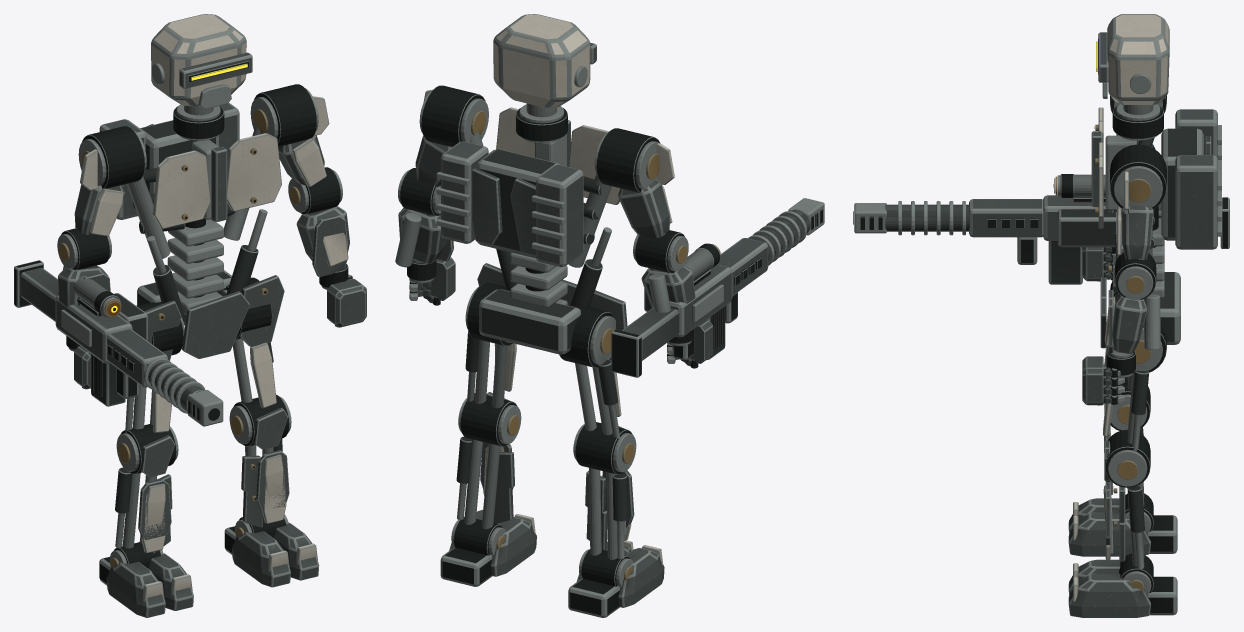
Rendered from ranged-t4-sentinel.glb.
3 views of the same model, side by side, from view 1: azimuth 30°, elevation 25°; view 2: azimuth 150°, elevation 25°; view 3: azimuth 270°, elevation 25° (orthographic).
Visible parts, largest first — view 1: chest__clay, pelvis__metal, weaponR__metal, head__clay, chest__metal, pelvis__clay, weaponR__clay, kneeL__clay, ankleR__clay, ankleL__clay, kneeR__metal, kneeR__clay (+18 smaller); view 2: chest__clay, pelvis__metal, chest__metal, head__clay, weaponR__metal, weaponR__clay, kneeL__metal, kneeR__metal, shoulderR__metal, shoulderL__metal, ankleL__metal, ankleR__metal (+15 smaller); view 3: weaponR__metal, chest__clay, head__clay, weaponR__clay, chest__metal, ankleL__clay, kneeL__metal, pelvis__metal, shoulderL__metal, ankleR__clay, elbowL__metal, elbowL__clay (+11 smaller).
Part boxes in pixels (x1,y1,x2,y2): chest__clay: [99, 103, 281, 228]; pelvis__metal: [136, 209, 272, 355]; weaponR__metal: [14, 260, 223, 426]; head__clay: [151, 14, 252, 106]; chest__metal: [126, 104, 260, 258]; pelvis__clay: [144, 275, 284, 360]; weaponR__clay: [20, 268, 203, 411]; kneeL__clay: [241, 407, 289, 527]; ankleR__clay: [106, 553, 193, 617]; ankleL__clay: [232, 522, 319, 587]; kneeR__metal: [115, 424, 178, 548]; kneeR__clay: [138, 435, 174, 553]; chest__clay: [441, 107, 620, 266]; pelvis__metal: [465, 227, 615, 367]; chest__metal: [436, 104, 611, 267]; head__clay: [493, 14, 596, 107]; weaponR__metal: [611, 198, 824, 377]; weaponR__clay: [622, 209, 810, 360]; kneeL__metal: [456, 393, 521, 529]; kneeR__metal: [573, 422, 636, 559]; shoulderR__metal: [594, 128, 665, 234]; shoulderL__metal: [419, 85, 488, 146]; ankleL__metal: [440, 517, 505, 586]; ankleR__metal: [568, 549, 633, 617]; weaponR__metal: [853, 174, 1229, 284]; chest__clay: [1091, 107, 1217, 249]; head__clay: [1098, 14, 1169, 104]; weaponR__clay: [885, 195, 1161, 240]; chest__metal: [1094, 104, 1221, 256]; ankleL__clay: [1068, 559, 1150, 617]; kneeL__metal: [1105, 429, 1150, 569]; pelvis__metal: [1107, 206, 1180, 374]; shoulderL__metal: [1110, 144, 1166, 259]; ankleR__clay: [1068, 498, 1150, 556]; elbowL__metal: [1115, 252, 1160, 349]; elbowL__clay: [1104, 290, 1147, 355].
Size of the model in its own units: 2.33 by 4.27 by 2.65.
Materials: 12 (10 with a texture image).
